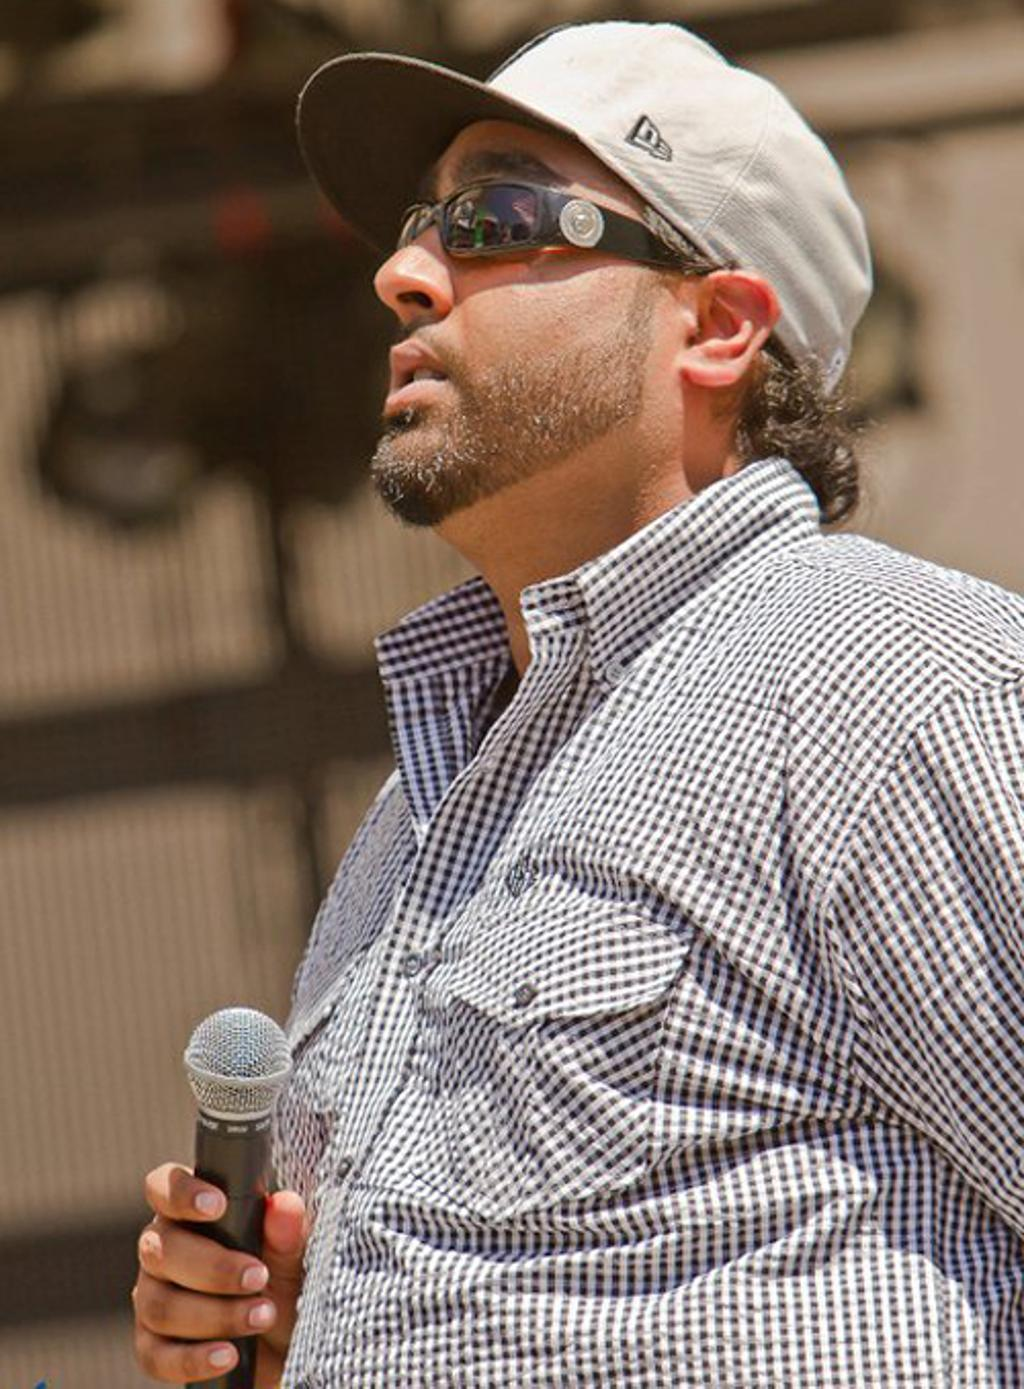face: (378, 85, 681, 510)
